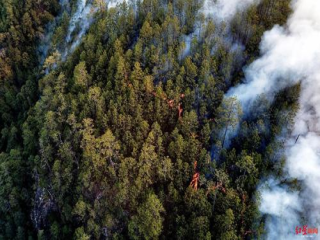smoke: (220, 11, 318, 236), (159, 1, 252, 61), (37, 2, 98, 65)
